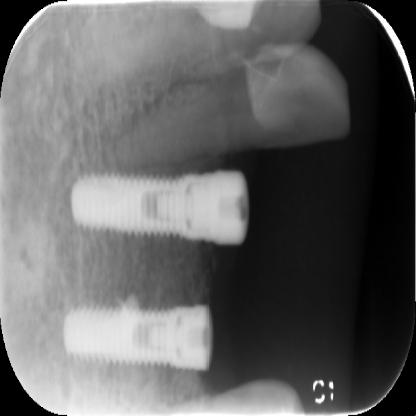Bego: (68, 156, 191, 268), (58, 283, 177, 390)
